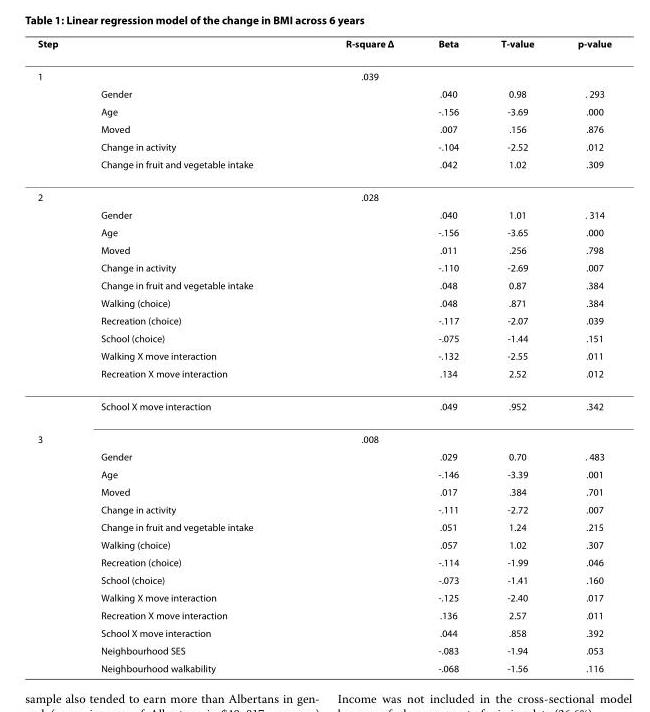table: (36, 36, 611, 673)
table column: (78, 36, 298, 673), (298, 36, 415, 673), (479, 36, 555, 673), (415, 36, 479, 673), (555, 36, 611, 673), (36, 36, 78, 673)
table column header: (36, 36, 611, 59)
table row: (36, 389, 611, 422), (36, 154, 611, 180), (36, 59, 611, 84), (36, 180, 611, 205), (36, 364, 611, 389), (36, 422, 611, 447), (36, 36, 611, 59), (36, 84, 611, 102), (36, 119, 611, 137), (36, 205, 611, 223), (36, 240, 611, 258), (36, 275, 611, 293), (36, 293, 611, 311), (36, 328, 611, 346), (36, 346, 611, 364), (36, 464, 611, 482), (36, 482, 611, 500), (36, 517, 611, 535), (36, 552, 611, 570), (36, 570, 611, 588), (36, 605, 611, 623), (36, 623, 611, 641), (36, 102, 611, 119), (36, 137, 611, 154), (36, 223, 611, 240), (36, 258, 611, 275), (36, 311, 611, 328), (36, 447, 611, 464), (36, 500, 611, 517), (36, 535, 611, 552), (36, 588, 611, 605), (36, 641, 611, 658), (36, 658, 611, 673)
table spanning cell: (36, 422, 78, 673), (36, 180, 78, 422), (36, 59, 78, 180)
